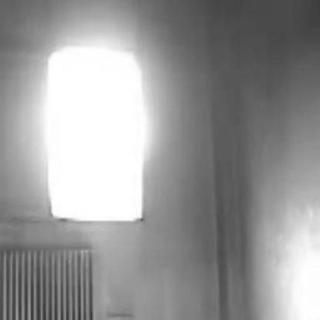other: (33, 41, 157, 234)
